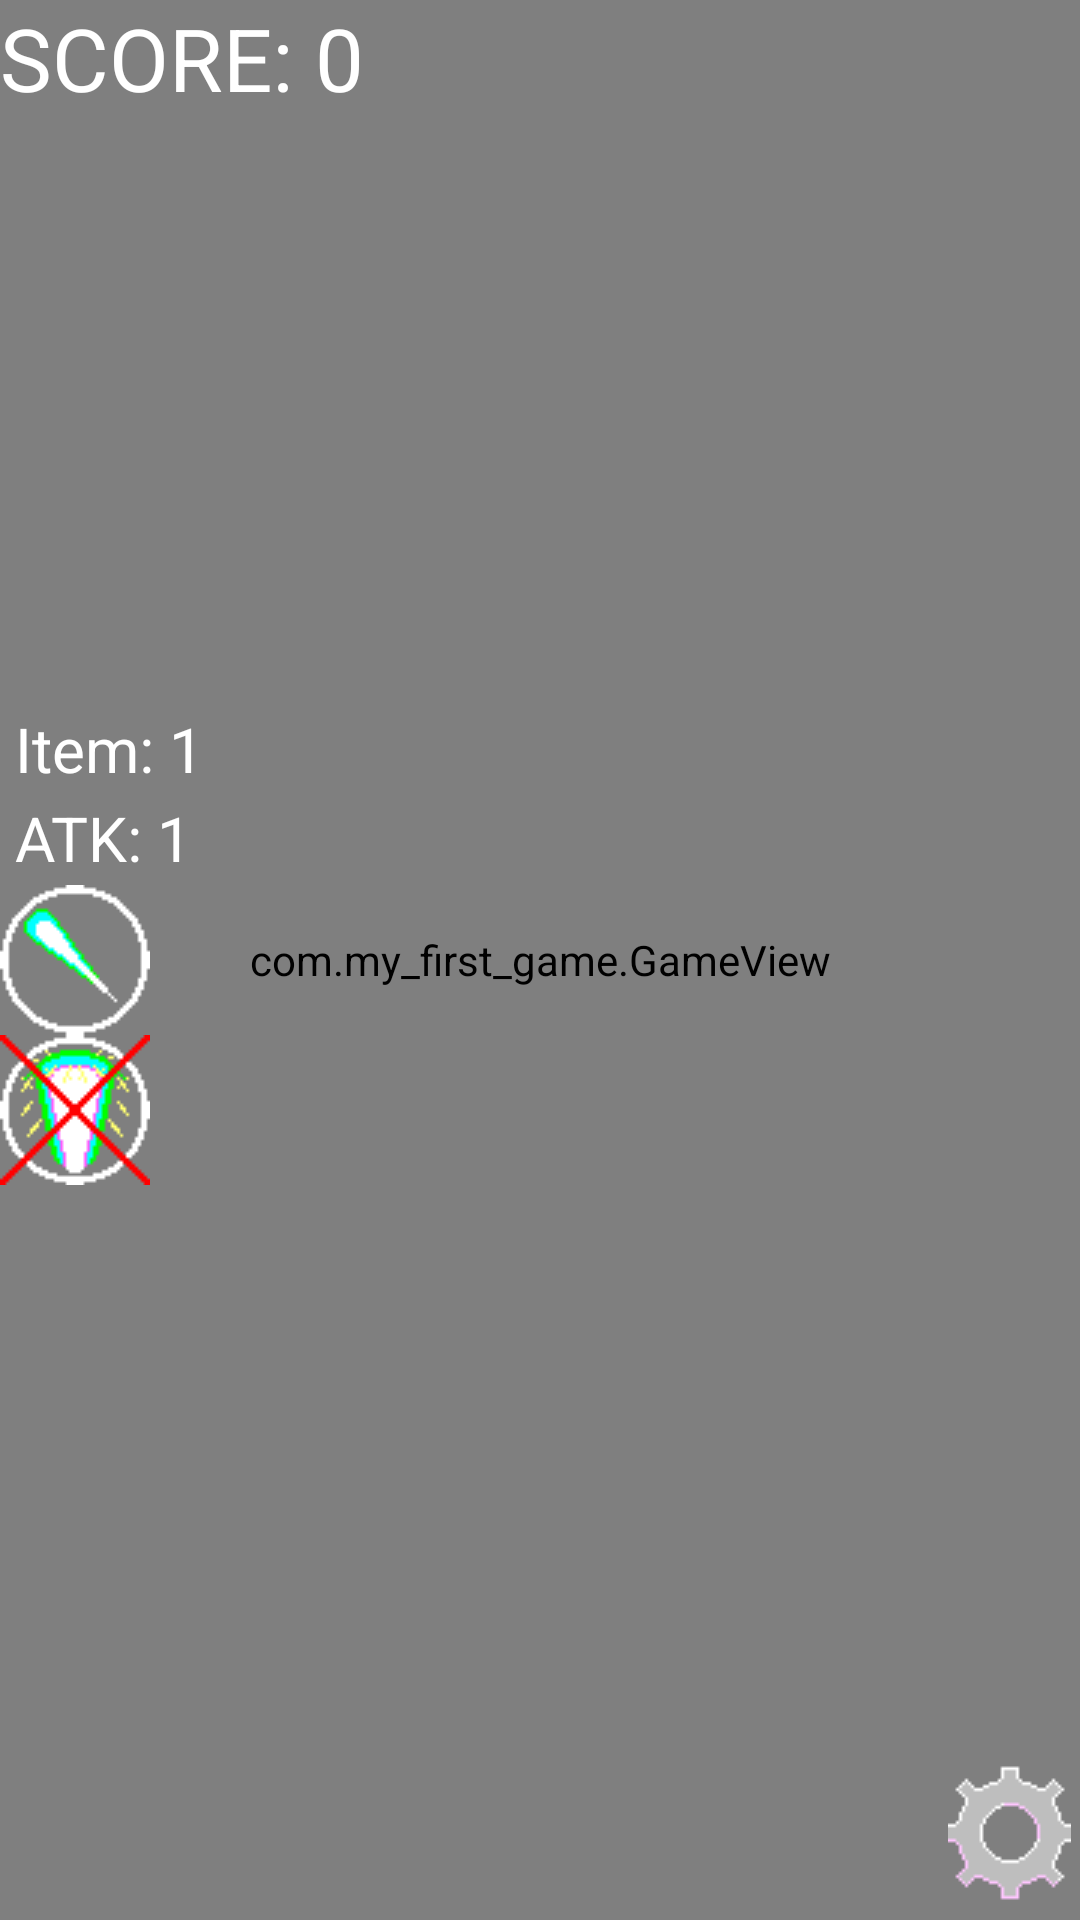

Where icons sit on this 1080px×1920px app screen, as (x1, y1, x2, y2):
buttons: (0, 885, 150, 1035)
buttons specialno: (0, 1035, 150, 1185)
set: (948, 1766, 1071, 1900)
